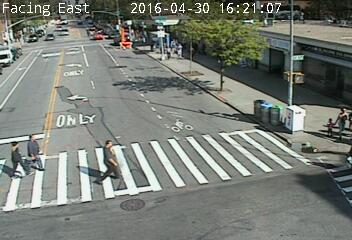neg: (258, 95, 277, 121), (153, 74, 171, 98), (215, 58, 233, 81), (243, 146, 259, 168), (277, 6, 293, 27), (167, 112, 181, 131), (196, 141, 210, 160), (1, 39, 14, 58), (43, 47, 56, 65), (96, 32, 109, 49), (56, 17, 68, 34), (198, 9, 210, 25), (33, 86, 44, 101), (116, 78, 127, 92), (290, 74, 300, 88), (67, 71, 77, 85)
pos: (87, 132, 125, 183), (15, 130, 45, 170), (331, 106, 351, 133), (172, 43, 186, 62), (323, 117, 337, 135)
